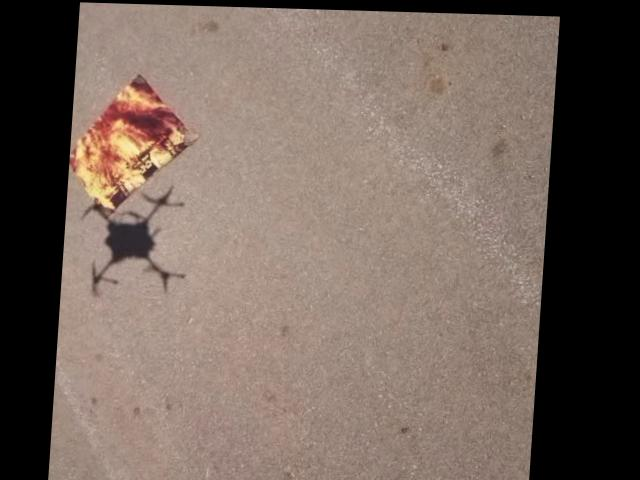fire-poster: (69, 70, 204, 215)
